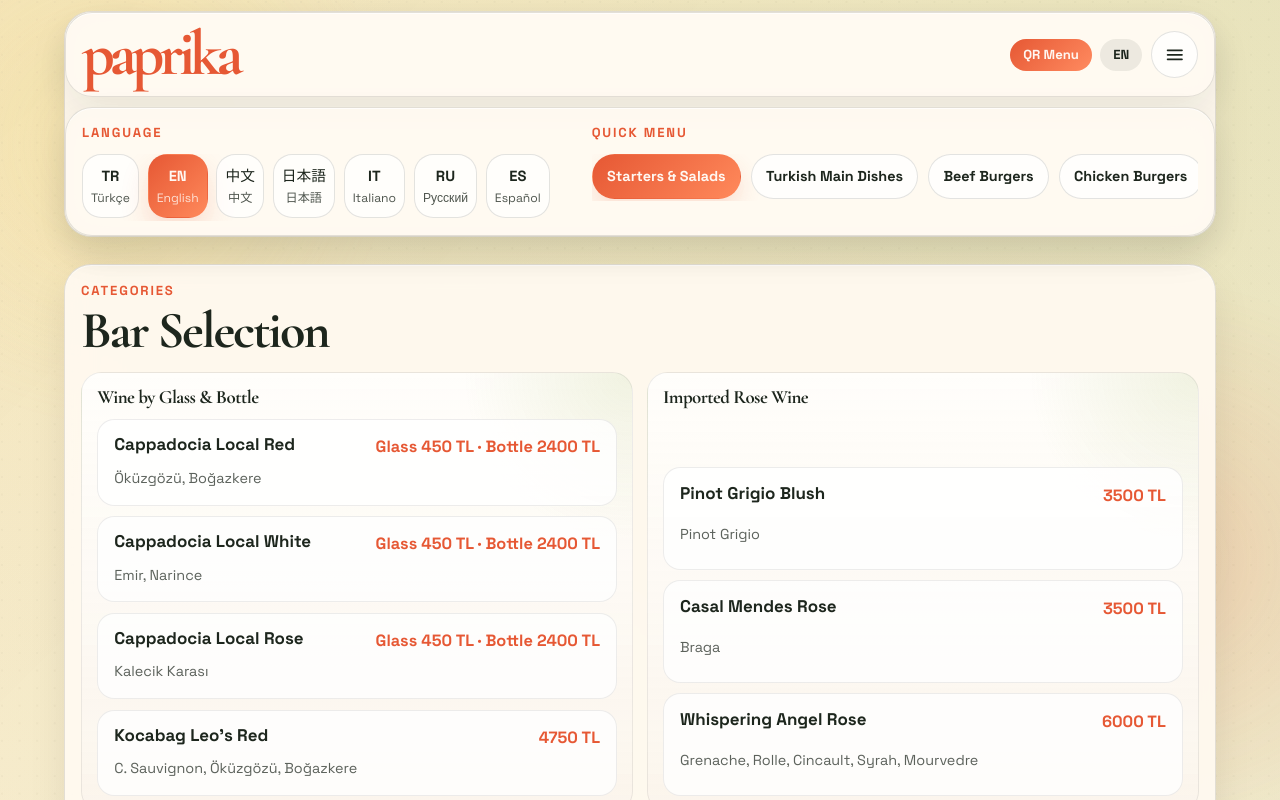
Test: Paprika menu › switches the menu language manually
The image size is (1280, 800).
Click the button named "Open menu".
click(1174, 55)  # box [1151,31,1198,78]
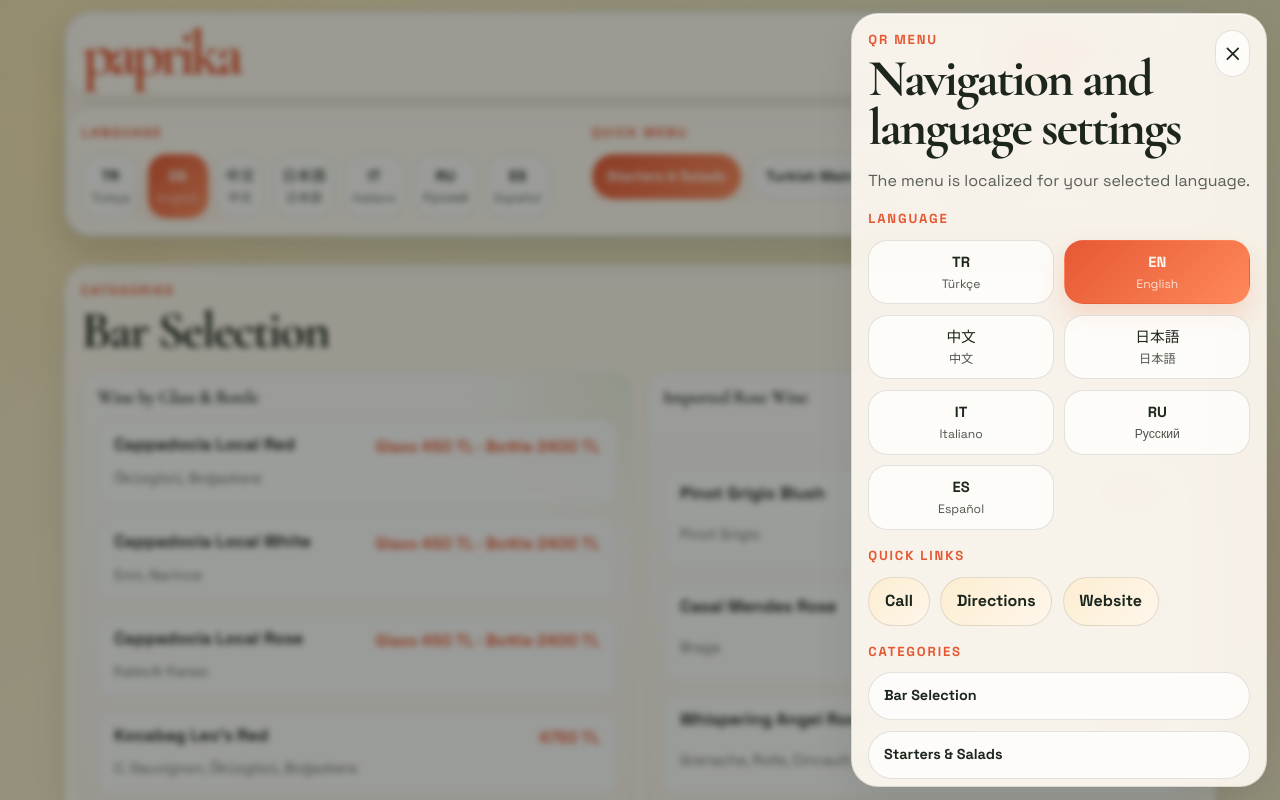
Click the button "中文 中文".
click(961, 347)  # box [868,315,1054,380]
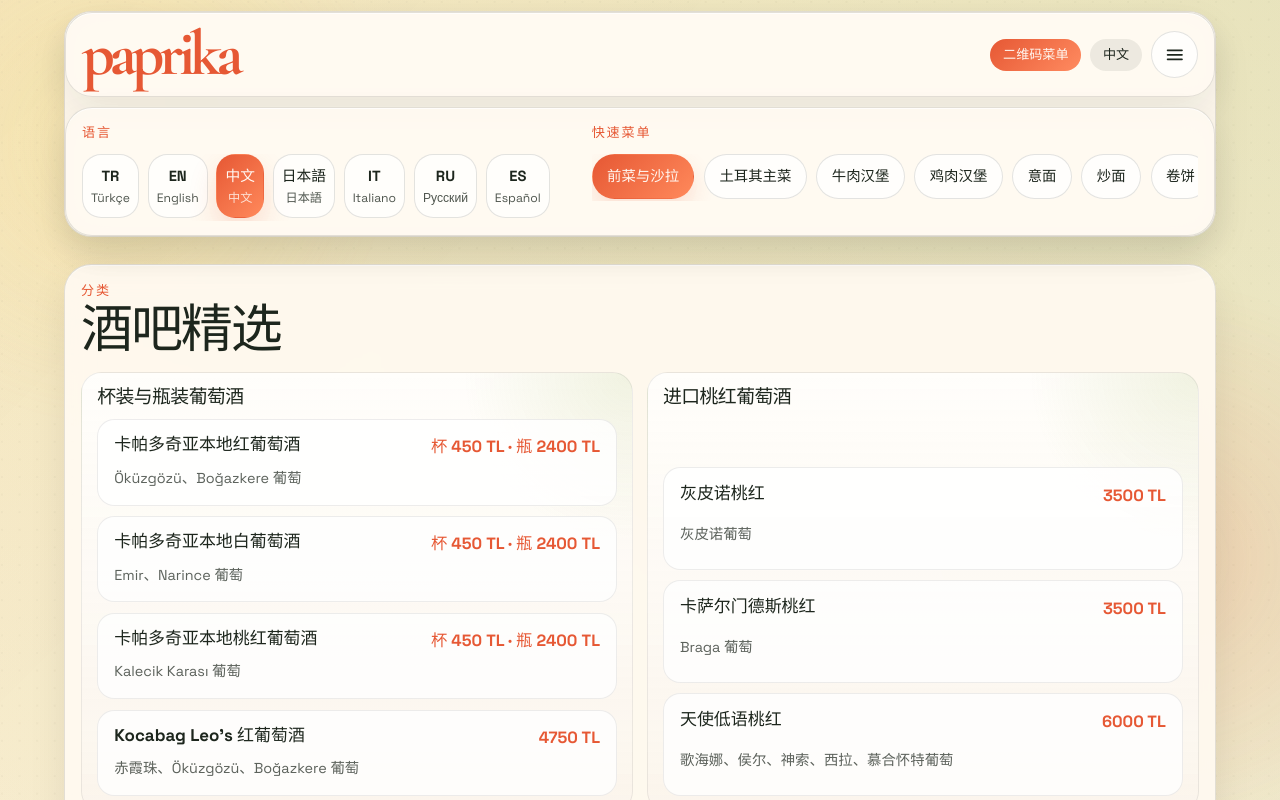
Result: the button named "打开菜单" is shown at [1151,31,1198,78]
Result: the text "快速菜单" is shown at [592,124,652,141]
Result: the heading "酒吧精选" is shown at [81,300,281,362]
